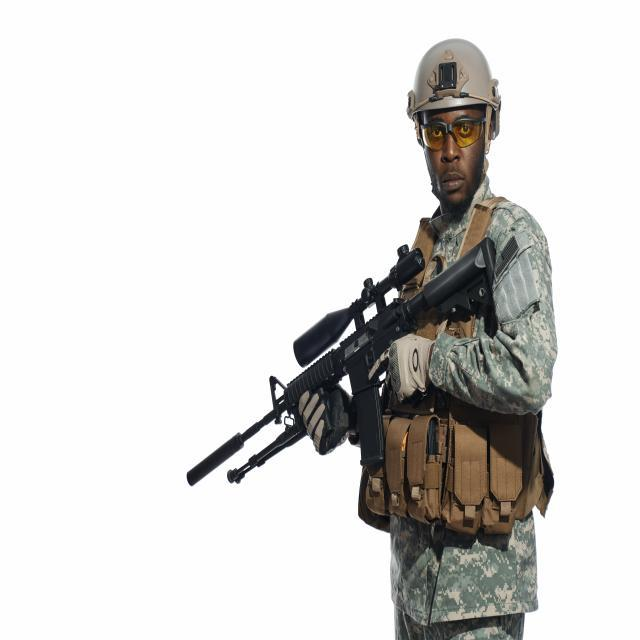rifle: (180, 220, 508, 508)
